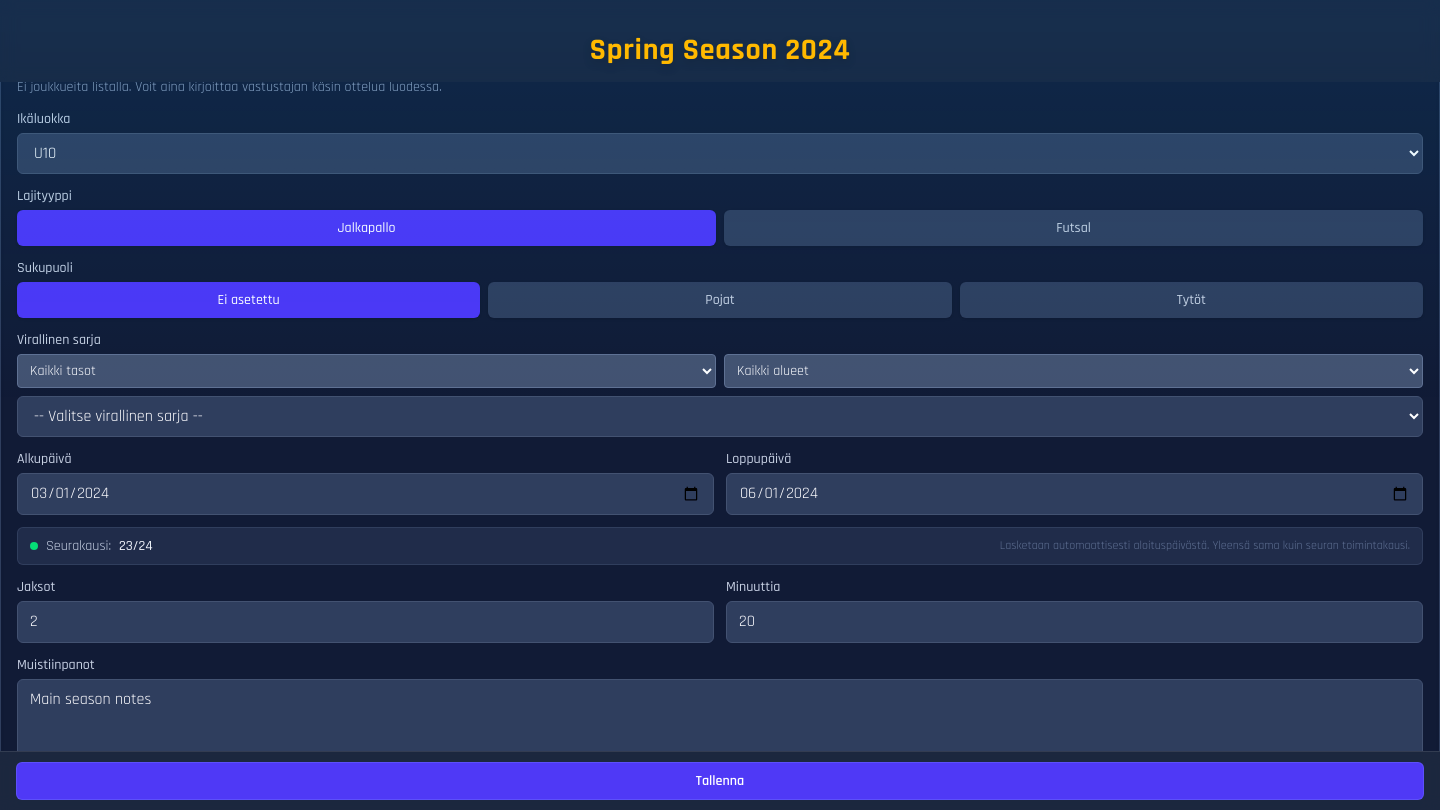
Test: SeasonDetailsModal › League Selection › shows error when custom league name is too short (1 character)
This screenshot has width=1440, height=810.
(page scrolled)
// Find and select "Muu" league
Select "Muu (vapaa kuvaus)" in the dropdown with id "season-league" at [720, 416], box [17,396,1423,436]
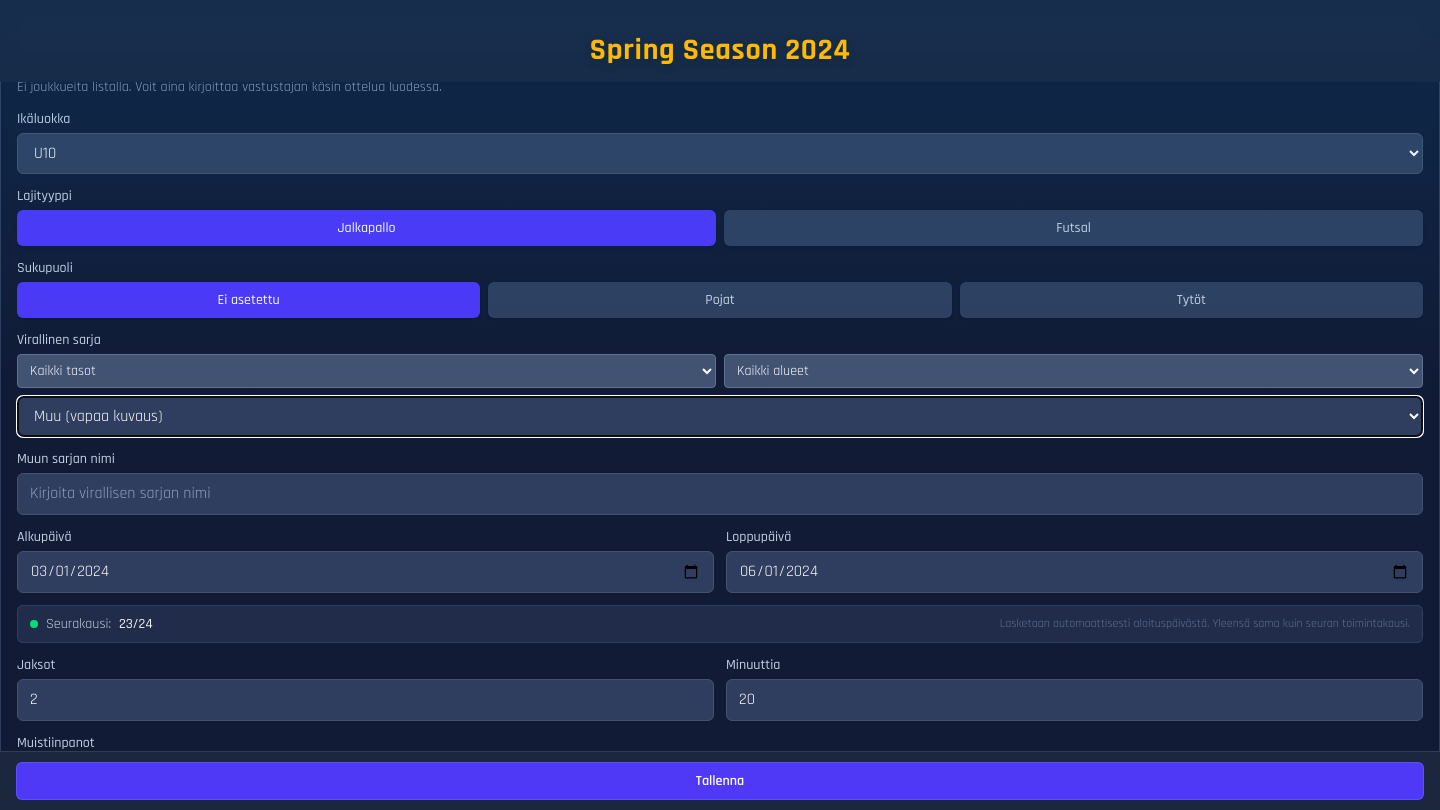
// Enter only 1 character (too short)
Type "A" into the field with placeholder "Kirjoita virallisen sarjan nimi" at [720, 494], box [17,472,1423,514]
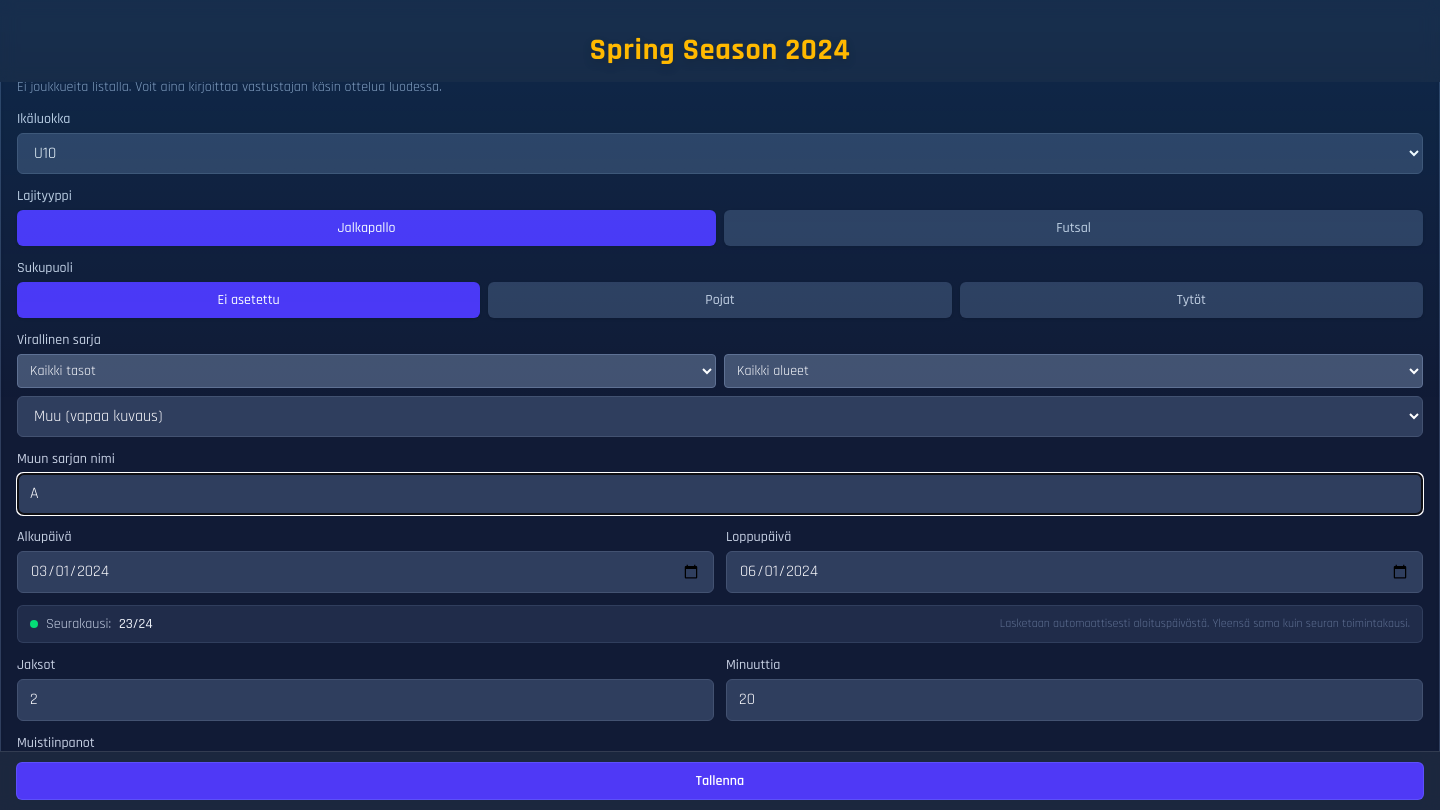
// Click save
Click the button "Tallenna" at [720, 781], box [16,762,1424,800]
(page scrolled)
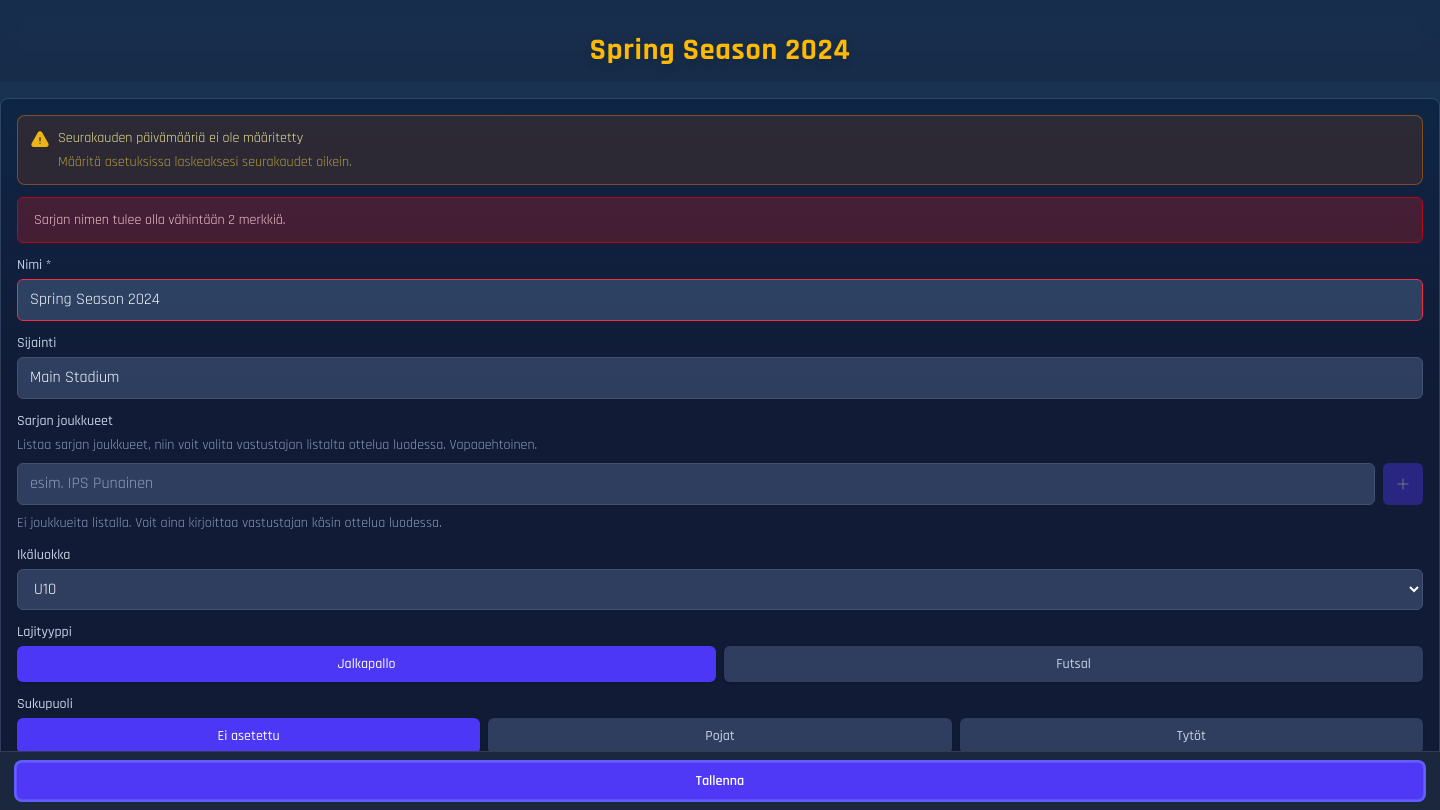
Now the text "Sarjan nimen tulee olla vähintään 2 merkkiä." is shown, box [17,196,1423,242]
